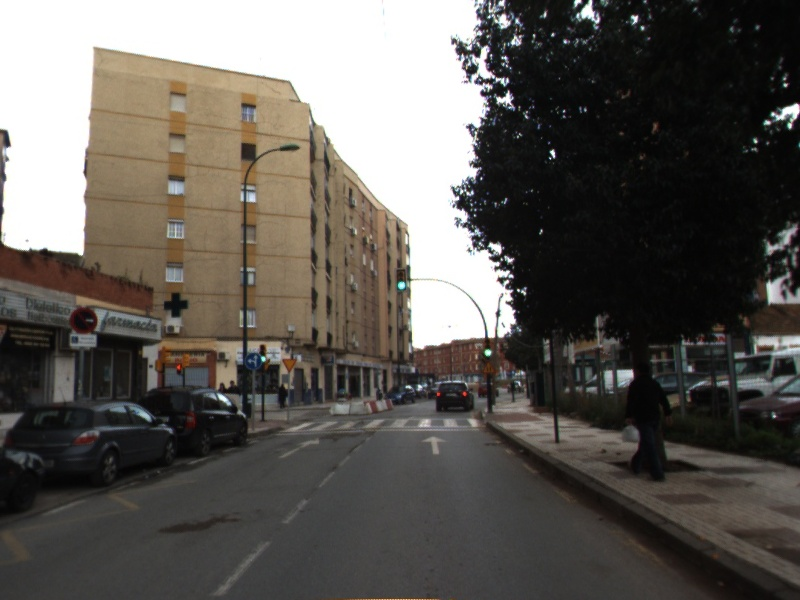STRAIGHT: (276, 435, 321, 461), (418, 434, 451, 457)
